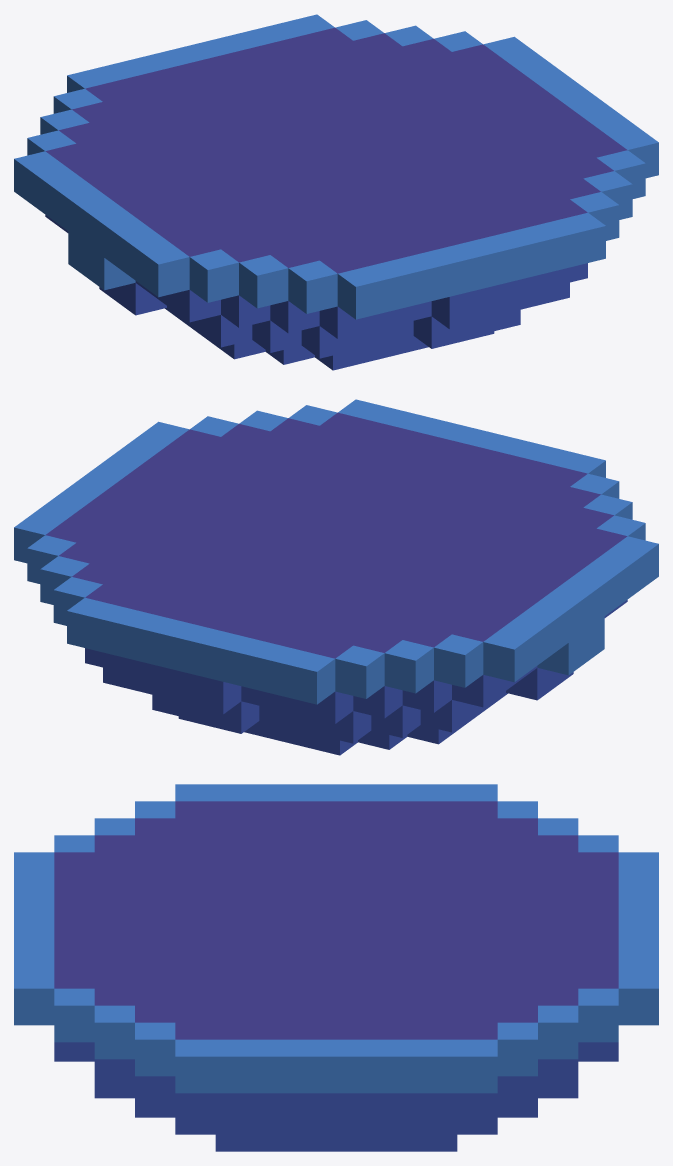
The model's file is teapot_10.obj.
The picture shows the model from 3 angles, top to bottom: view 1: azimuth 30°, elevation 25°; view 2: azimuth 150°, elevation 25°; view 3: azimuth 270°, elevation 25°; orthographic projection. The views are drawn at different scales.
Size of the model in its own units: 1.6 by 0.4 by 1.6.
Materials: 1 (1 with a texture image).
